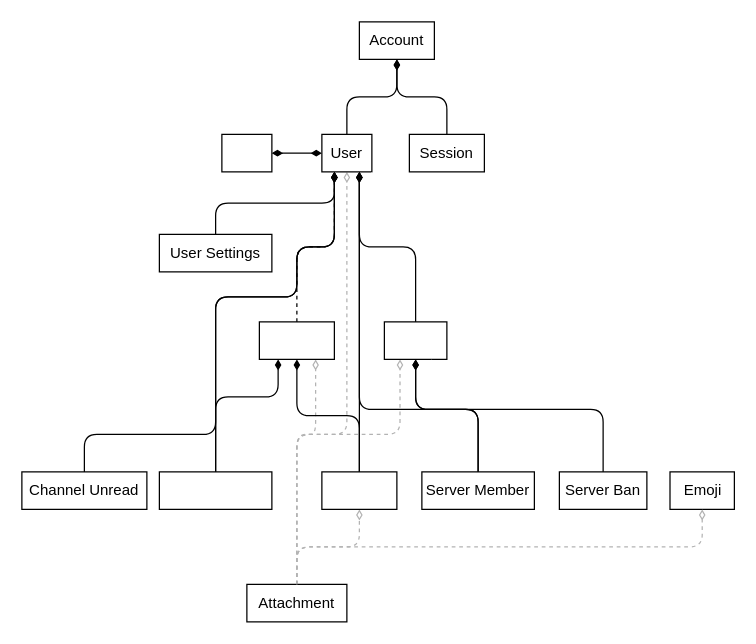
Some shapes in this 756 by 644 pixel diagram are drawn without their labels. Each missing label, with the centre of its shape:
"Bot" goes at (x=246, y=152).
"Channel" goes at (x=296, y=340).
"Channel Invite" goes at (x=215, y=490).
"Message" goes at (x=359, y=490).
"Server" goes at (x=415, y=340).
